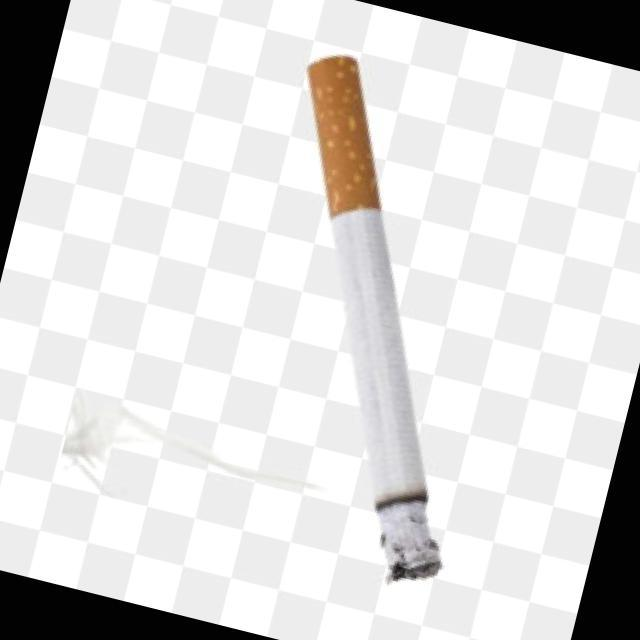cigarette: (172, 27, 560, 600)
